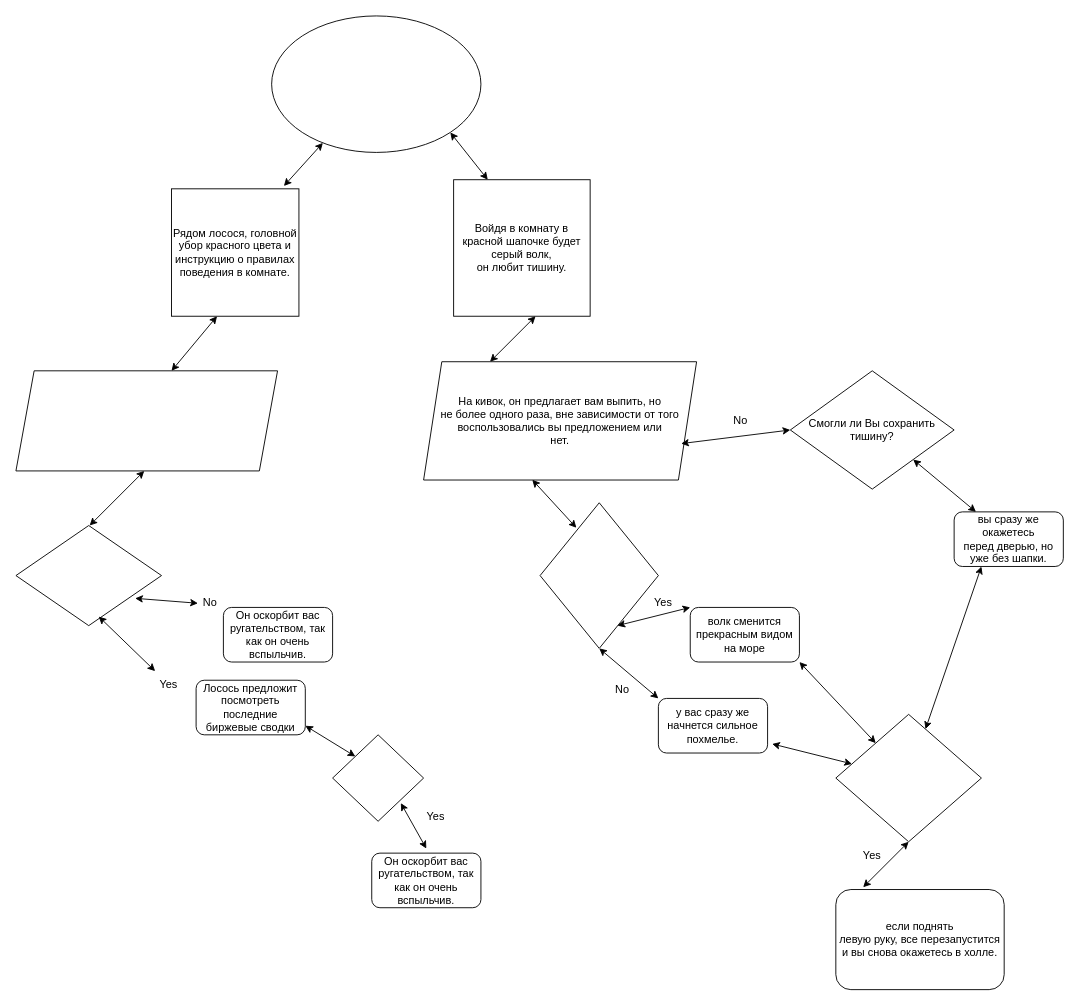
The diagram is 1079 pixels wide and 1006 high, and some of its shapes have lost their labels. Here are the shapes that lost their labels. From the top down, the centre of each, then its label:
At pixel 376 83: "Вы перед дверью в “странную” комнату.".
At pixel 146 420: "Войдя с лососем, вы увидите старые часы - отчитывающие часы и минуты.".
At pixel 88 575: "Время до полудня?".
At pixel 598 575: "Оставили ли Вы на чай?".
At pixel 378 777: "Вы отказались?".
At pixel 908 777: "Знаете ли Вы как выйти из комнаты?".
